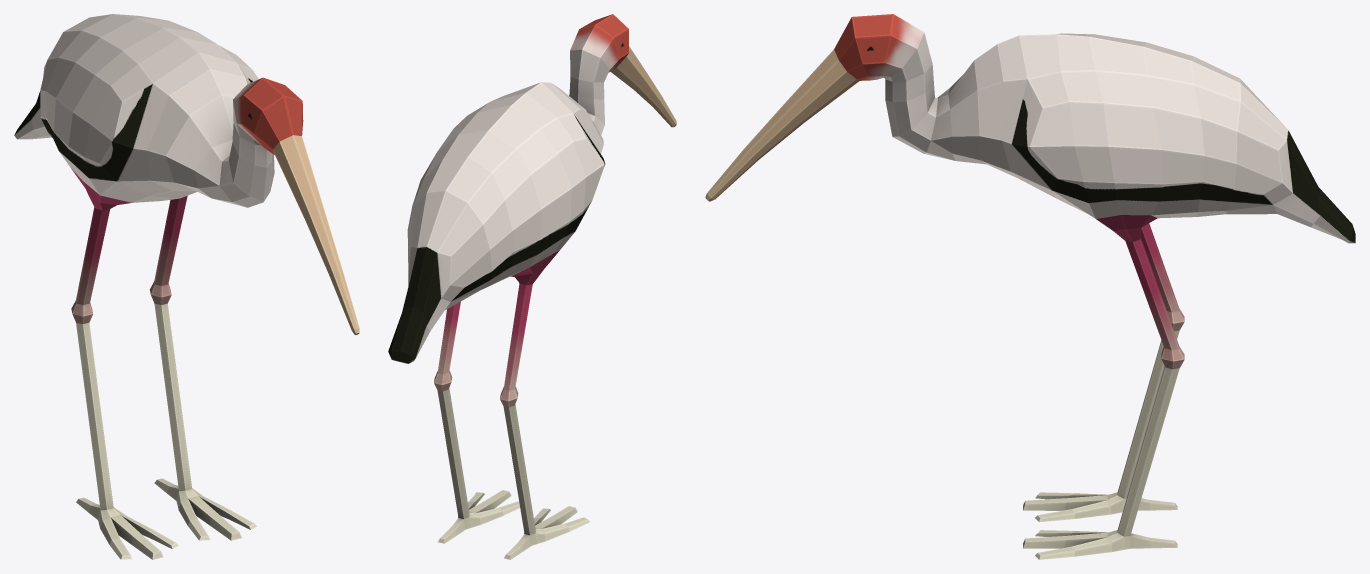
The model's file is 3bdace29-e0ca-4b28-9138-8f312b180f8c.glb.
3 views of the same model, side by side, from view 1: azimuth 30°, elevation 25°; view 2: azimuth 150°, elevation 25°; view 3: azimuth 270°, elevation 25° (orthographic). The views are drawn at different scales.
Visible parts, largest first — view 1: YellowBilledStork_mesh; view 2: YellowBilledStork_mesh; view 3: YellowBilledStork_mesh.
Part boxes in pixels (x1,y1,x2,y2): YellowBilledStork_mesh: (14,14,359,559); YellowBilledStork_mesh: (388,14,676,559); YellowBilledStork_mesh: (705,14,1355,559).
Size of the model in its own units: 2.89 by 8.68 by 9.97.
1 material, 1 textured.
